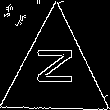N_W: (33, 52, 78, 93)
